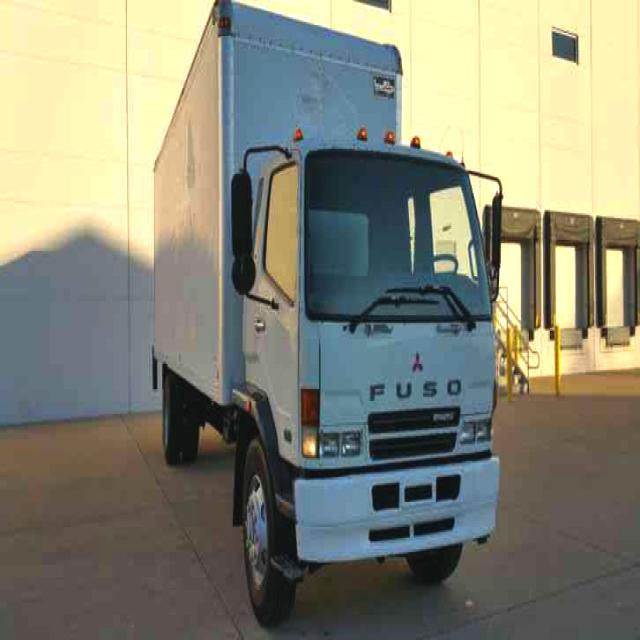truck: (154, 1, 502, 624)
